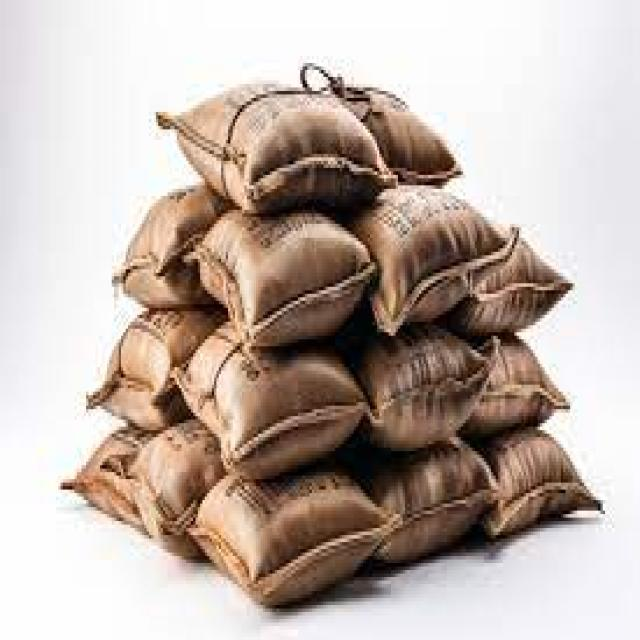sack: (384, 208, 520, 344), (230, 350, 370, 479), (257, 483, 396, 611), (248, 234, 379, 350), (375, 333, 492, 453), (249, 117, 389, 212)
